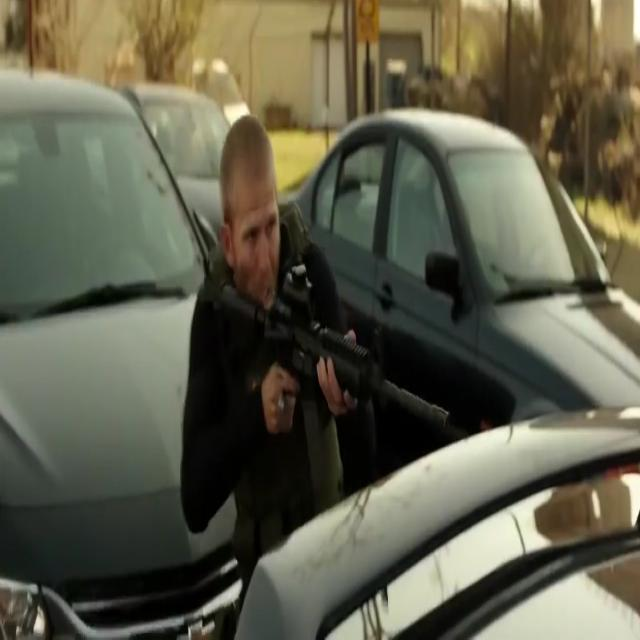Weapon: (210, 258, 430, 440)
